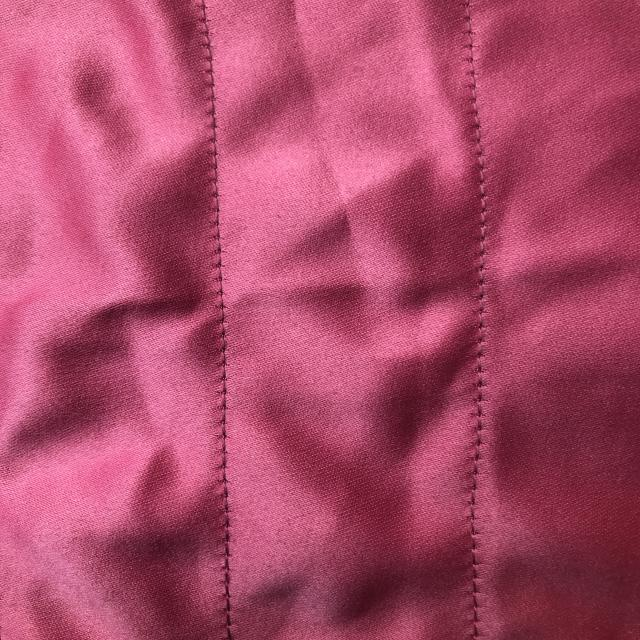good: (468, 188, 498, 356)
